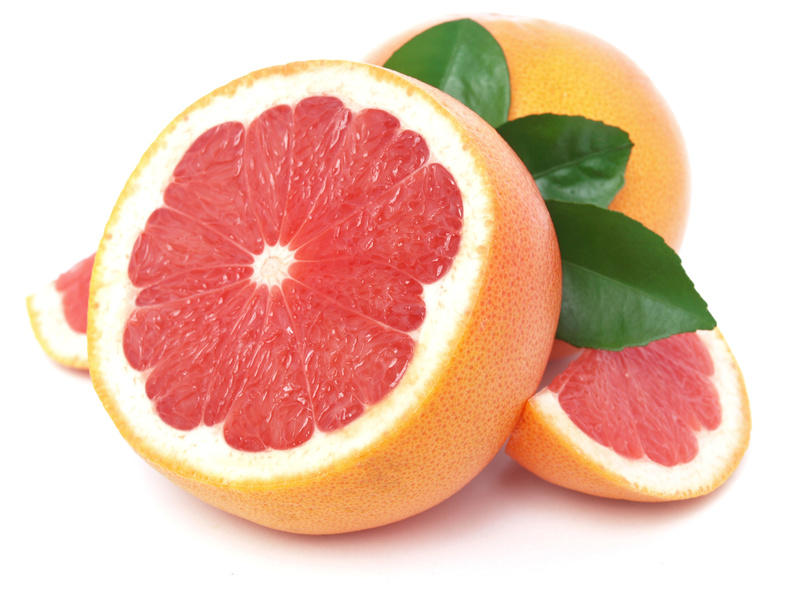grapefruit: (107, 67, 552, 536), (376, 20, 720, 287), (562, 294, 741, 491)
